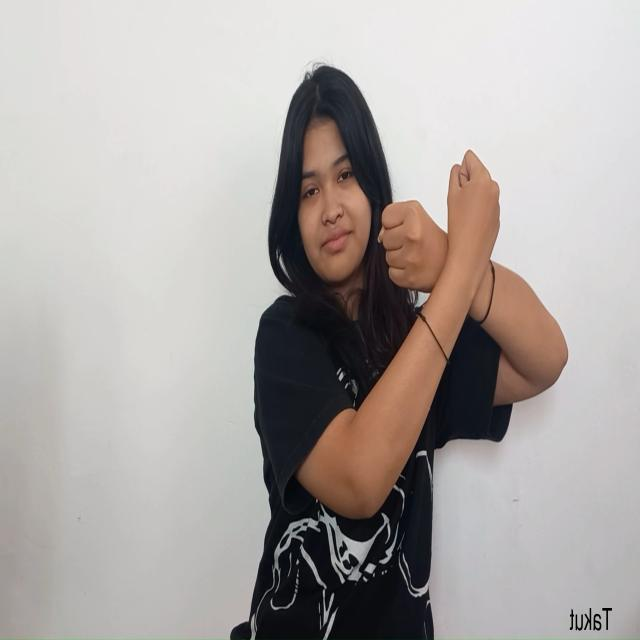Takut -BISINDO-: (375, 145, 503, 347)
